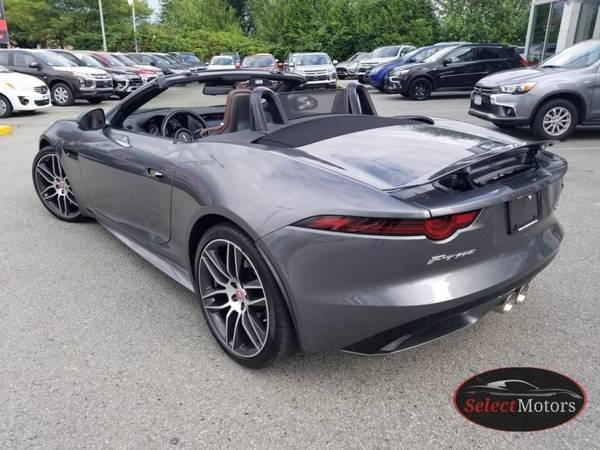Front_Fender: (41, 120, 97, 219)
Front_Left_Door: (80, 130, 181, 268)
Left_Taillight: (290, 207, 483, 243)
Rear_Bumper: (256, 167, 566, 353)
Rear_Fender: (165, 137, 431, 287)
Tailgate: (248, 112, 569, 214)
Wheel: (192, 227, 288, 372), (32, 148, 86, 223)
